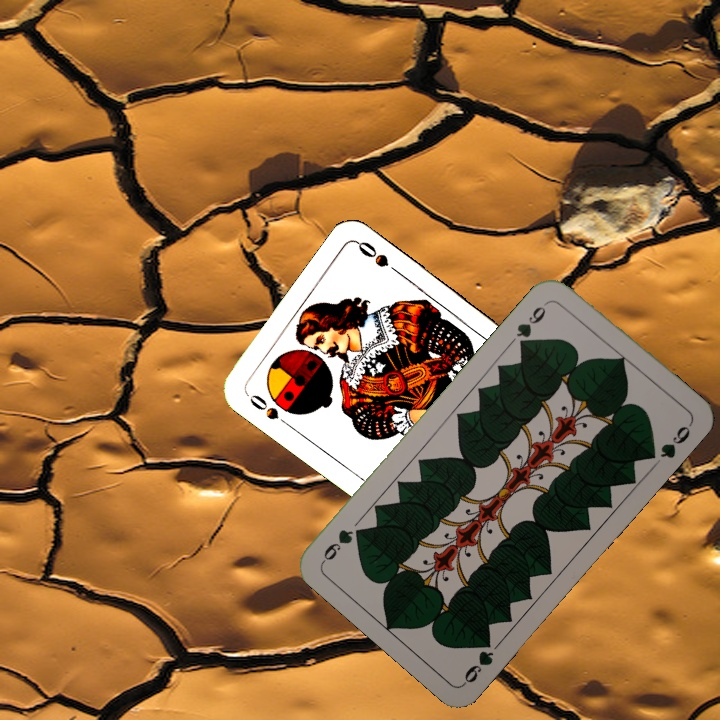G9: (512, 297, 552, 350), (459, 632, 497, 687)
SO: (242, 389, 293, 430)
